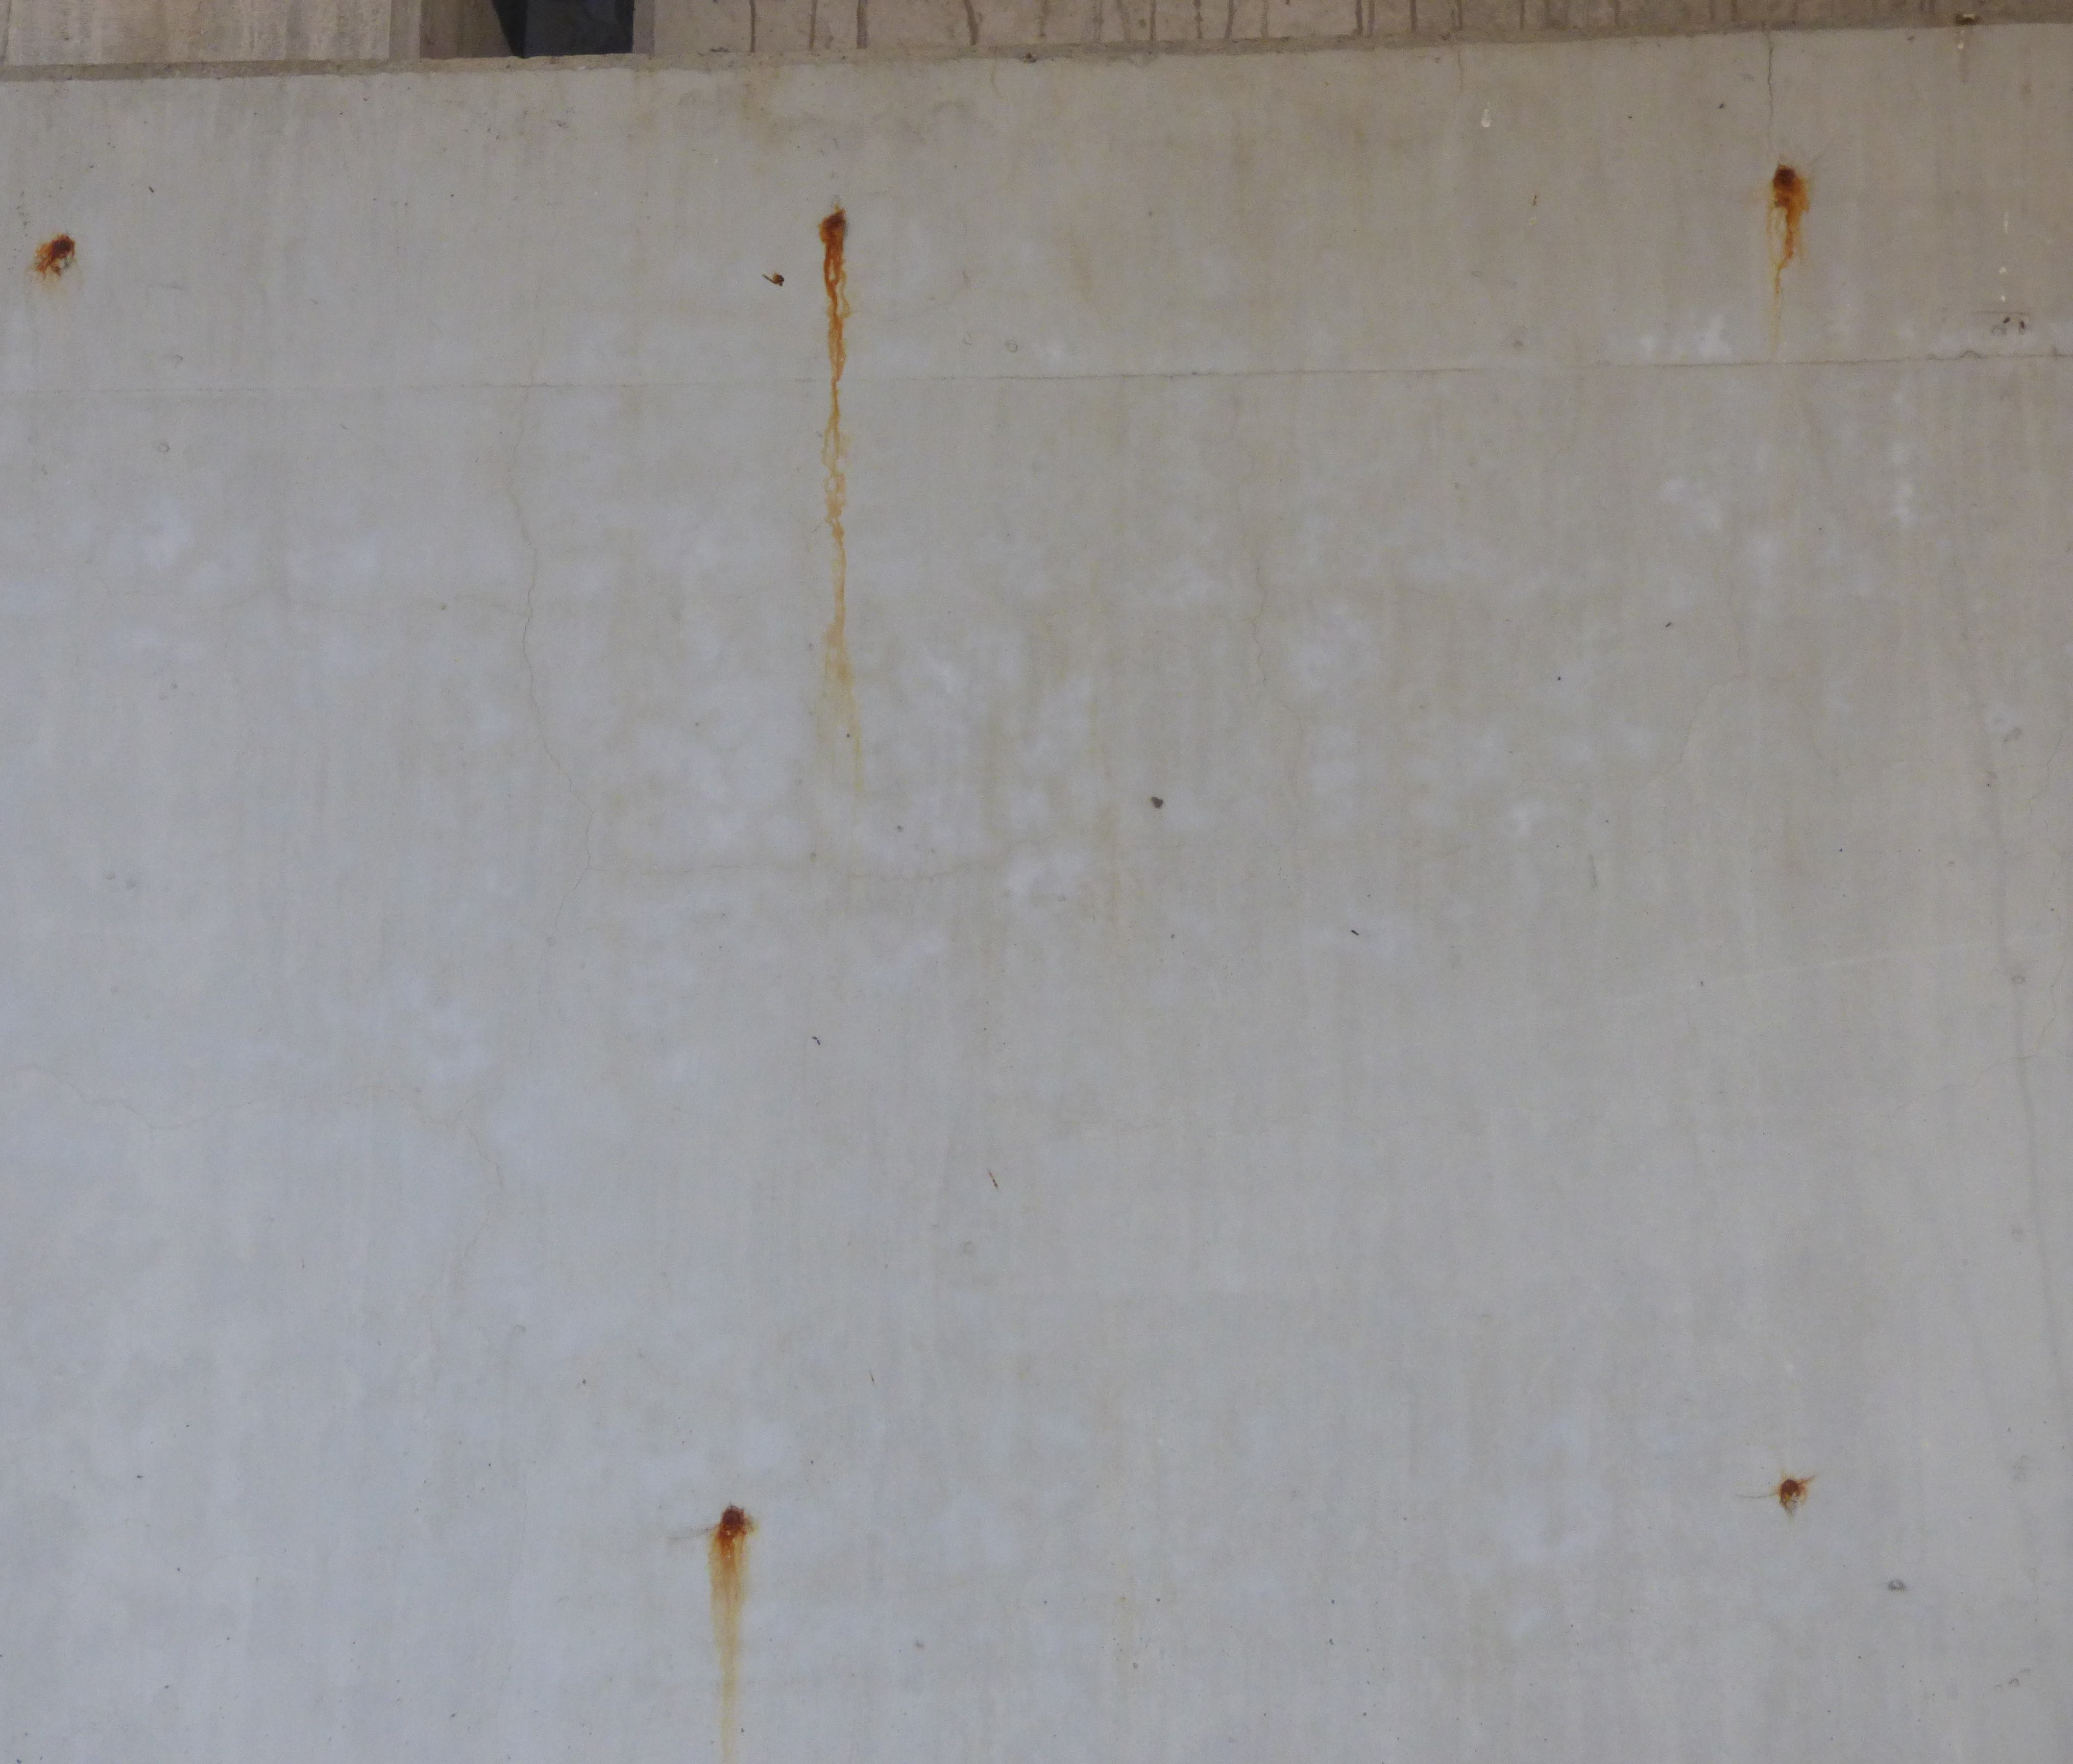Corrosion: (819, 206, 857, 761), (708, 1505, 754, 1764), (1769, 161, 1812, 336), (35, 233, 75, 280), (1776, 1473, 1807, 1515), (761, 271, 785, 287)
